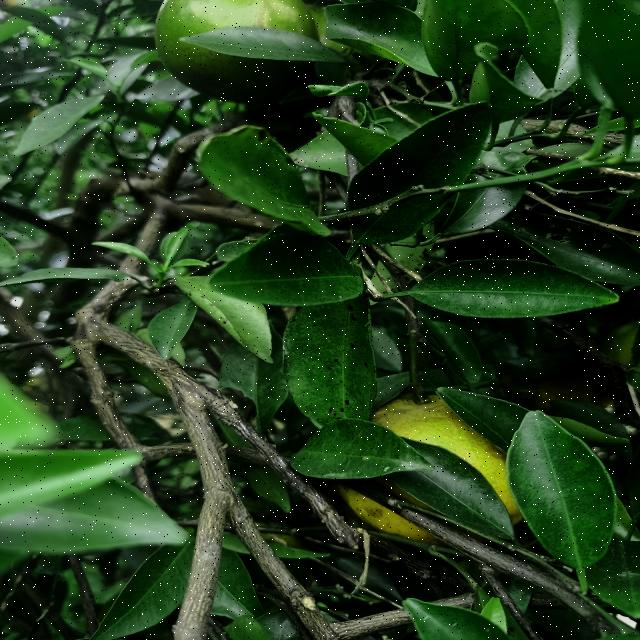melanose: (253, 279, 384, 446)
